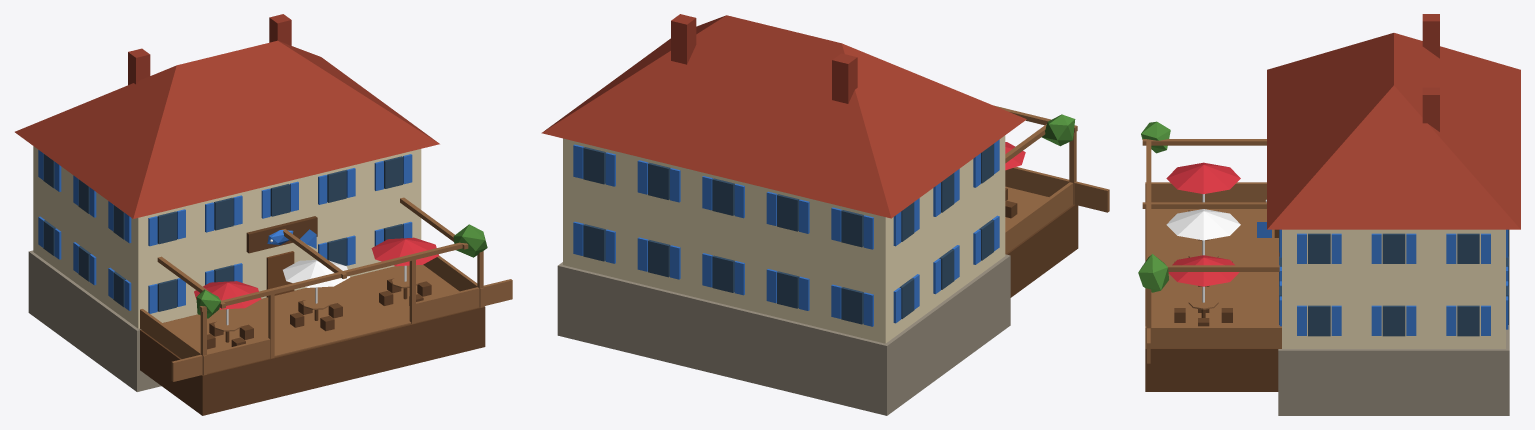
File: ribic.glb
The picture shows the model from 3 angles, left to right: view 1: azimuth 30°, elevation 25°; view 2: azimuth 150°, elevation 25°; view 3: azimuth 270°, elevation 25°; orthographic projection. The views are drawn at different scales.
Parts seen in each view (by area): view 1: Ribic; view 2: Ribic; view 3: Ribic.
Part boxes in pixels (x1=…): Ribic: x1=15, y1=14, x2=512, y2=415; Ribic: x1=541, y1=14, x2=1109, y2=415; Ribic: x1=1138, y1=14, x2=1520, y2=415.
Size of the model in its own units: 16.8 by 12.7 by 15.38.
